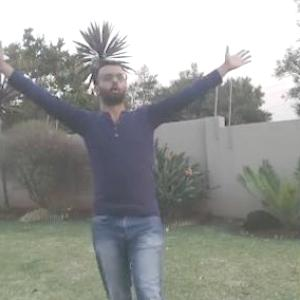takeoff: (1, 32, 291, 299)
